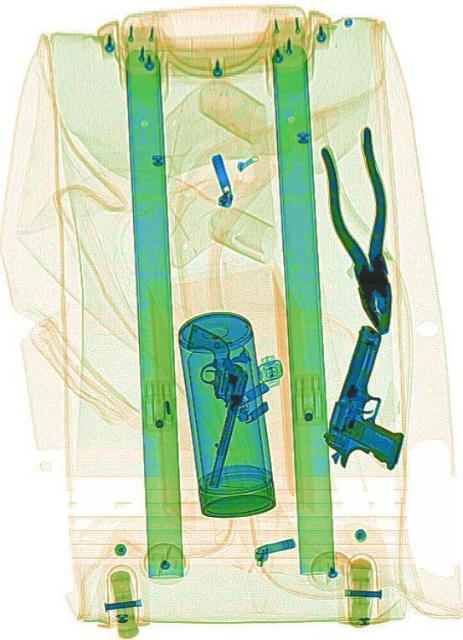Gun: (314, 322, 429, 490), (154, 320, 257, 490)
Pliers: (314, 124, 411, 342)
